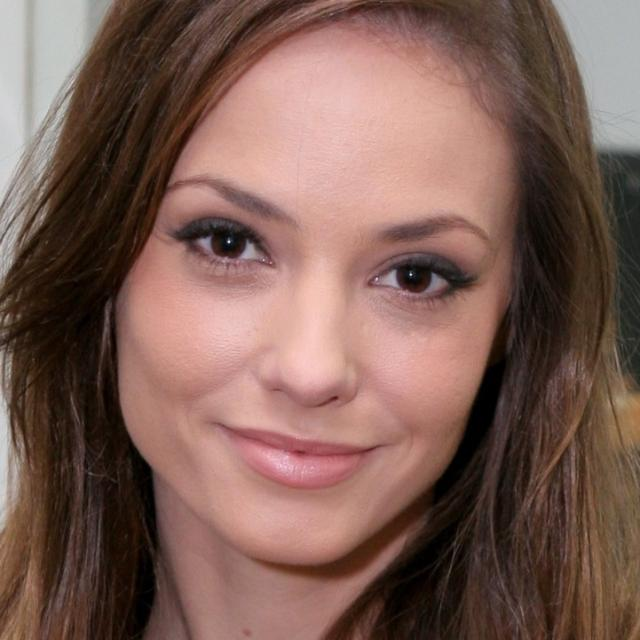Normal: (117, 32, 522, 566)
